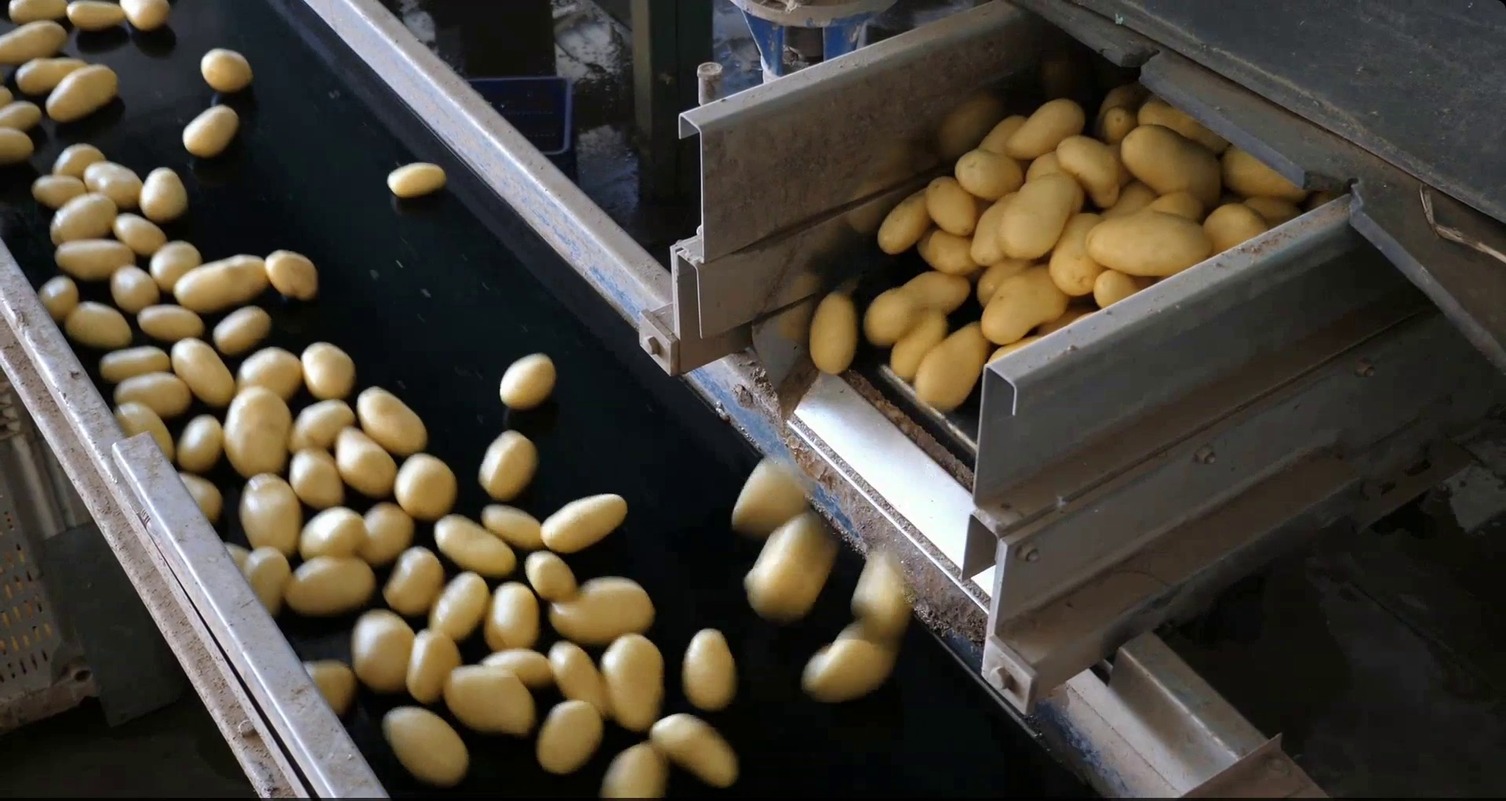potato: (736, 508, 841, 625), (1079, 202, 1216, 278), (997, 168, 1089, 265), (797, 623, 902, 705), (722, 449, 816, 538), (976, 259, 1071, 346), (909, 318, 990, 419), (1119, 121, 1225, 198), (380, 703, 474, 788), (441, 658, 540, 738), (648, 711, 743, 792), (598, 629, 670, 734), (543, 572, 658, 637), (167, 251, 278, 315), (224, 383, 296, 480), (274, 553, 381, 618), (846, 545, 919, 639), (347, 607, 418, 700), (236, 467, 306, 561), (538, 491, 635, 556), (533, 696, 609, 777), (431, 511, 520, 578), (1046, 205, 1109, 299), (354, 383, 431, 458), (679, 625, 741, 716), (547, 639, 614, 721), (1054, 130, 1121, 211), (1003, 93, 1086, 158), (376, 542, 446, 618), (402, 623, 465, 706), (886, 306, 951, 386), (169, 335, 240, 408), (805, 287, 860, 381), (473, 428, 541, 504), (967, 188, 1031, 268), (334, 422, 399, 500), (594, 738, 673, 801), (45, 62, 124, 125), (424, 570, 490, 645), (1219, 136, 1300, 196), (295, 502, 369, 566), (44, 189, 122, 249), (872, 182, 934, 257), (48, 235, 140, 283), (391, 448, 454, 518), (78, 155, 150, 216), (111, 399, 176, 466), (176, 98, 245, 161), (286, 395, 358, 455), (494, 346, 558, 413), (951, 145, 1028, 200), (858, 285, 922, 351), (238, 546, 297, 617), (287, 444, 347, 513), (484, 578, 539, 653), (1199, 199, 1271, 256), (298, 337, 359, 404), (479, 498, 553, 552), (63, 298, 135, 352), (912, 224, 980, 281), (362, 499, 415, 571), (109, 369, 195, 413), (478, 645, 558, 692), (900, 266, 978, 314), (922, 172, 980, 236), (1135, 89, 1207, 140), (170, 410, 227, 473), (300, 654, 356, 718), (1, 19, 75, 67), (13, 53, 93, 97), (238, 343, 307, 394), (145, 236, 205, 294), (208, 305, 274, 357), (96, 343, 173, 385), (134, 163, 191, 219), (260, 248, 320, 301), (196, 43, 258, 94), (977, 254, 1031, 310), (174, 466, 225, 525), (133, 300, 208, 340), (382, 158, 451, 201), (107, 259, 163, 311), (522, 549, 580, 598), (977, 328, 1049, 367), (1096, 178, 1158, 223), (45, 140, 110, 182), (33, 270, 83, 324), (110, 212, 167, 259), (25, 171, 90, 211), (975, 111, 1030, 154), (1239, 192, 1304, 226), (1088, 267, 1143, 307), (1144, 184, 1206, 219), (1093, 82, 1140, 127), (1093, 103, 1140, 147), (118, 1, 176, 36), (65, 1, 129, 32), (1, 96, 45, 132), (1, 123, 36, 167), (1021, 151, 1063, 187), (5, 1, 72, 23), (1036, 308, 1088, 334), (222, 538, 249, 574), (1, 78, 16, 114), (1313, 189, 1330, 208)
